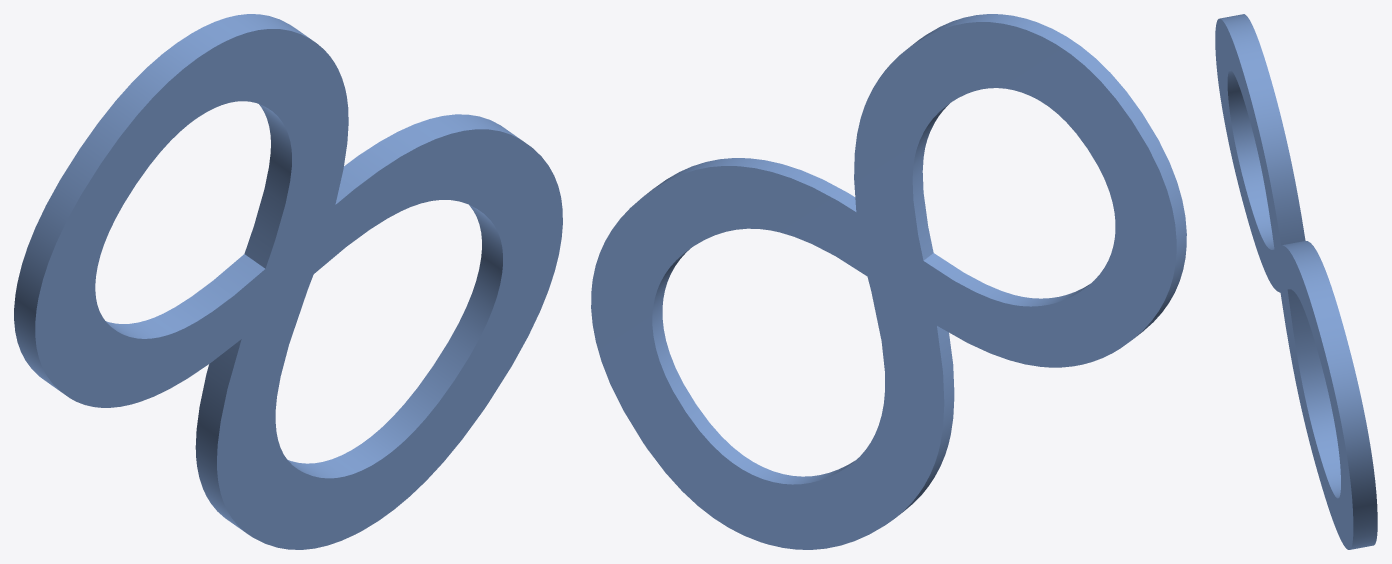
The model's file is New_Number_8.gltf.
3 views of the same model, side by side, from view 1: azimuth 30°, elevation 25°; view 2: azimuth 150°, elevation 25°; view 3: azimuth 270°, elevation 25° (orthographic). The views are drawn at different scales.
Visible parts, largest first — view 1: Part 440; view 2: Part 440; view 3: Part 440.
Part boxes in pixels (x1=…): Part 440: x1=14, y1=14, x2=562, y2=549; Part 440: x1=591, y1=14, x2=1186, y2=549; Part 440: x1=1215, y1=14, x2=1377, y2=549.
Bounding box in the file's own units: 0.00532 × 0.00506 × 0.00166.
